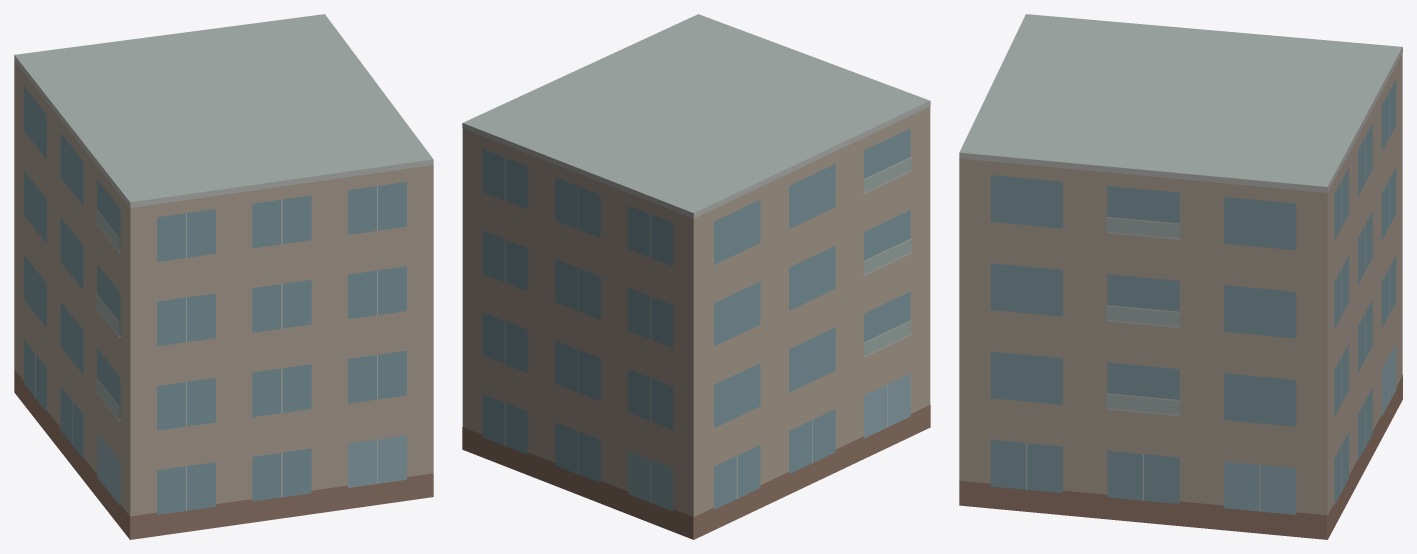
File: survey-upis-32862086.glb
The picture shows the model from 3 angles, left to right: view 1: azimuth 30°, elevation 25°; view 2: azimuth 150°, elevation 25°; view 3: azimuth 270°, elevation 25°; orthographic projection. The views are drawn at different scales.
Parts seen in each view (by area): view 1: survey-upis-32862086.tmp; view 2: survey-upis-32862086.tmp; view 3: survey-upis-32862086.tmp.
Boxes of the visible parts, x1,y1,x2,y2 form: survey-upis-32862086.tmp: (14,14,433,539); survey-upis-32862086.tmp: (462,14,930,539); survey-upis-32862086.tmp: (959,14,1402,539).
Bounding box in the file's own units: 15.26 × 14.51 × 16.53.
